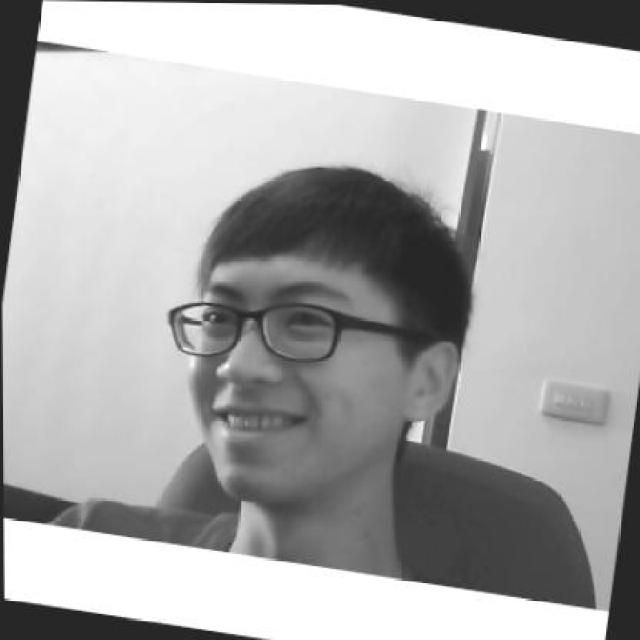attentif: (141, 137, 481, 528)
